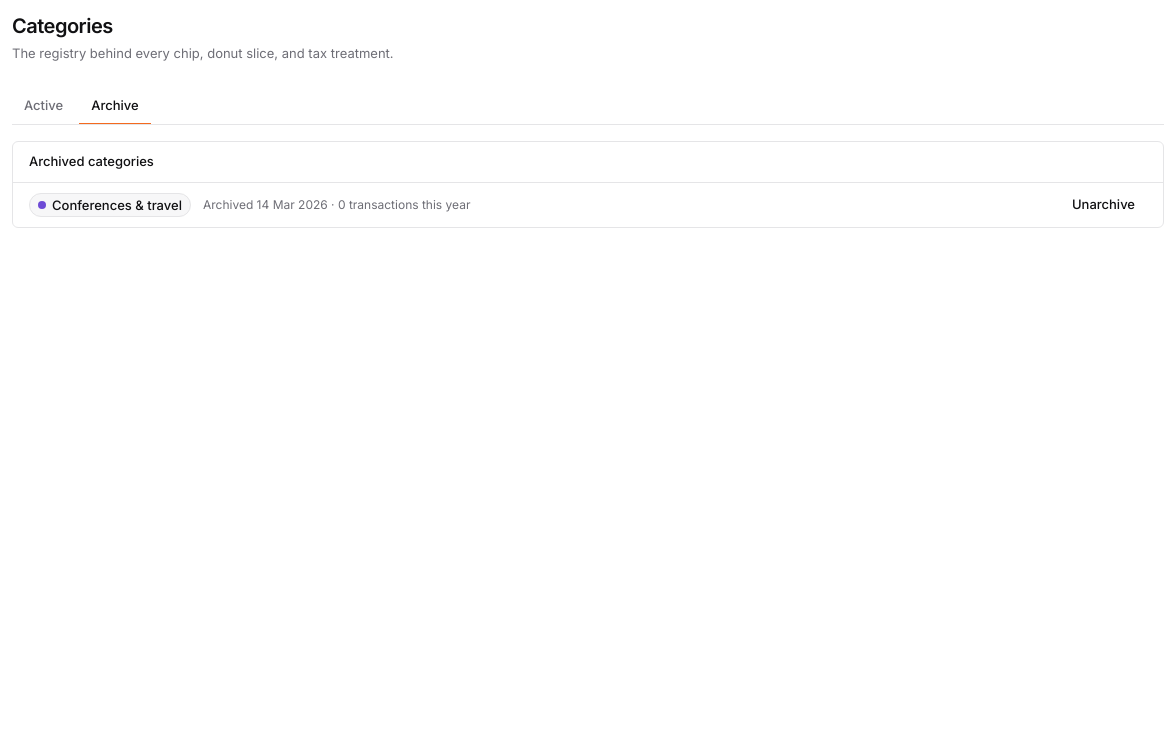
Test: CategoriesArchiveView (B8b) › renders archived rows with absolute-date meta and a quiet Unarchive
Expected: the text "Conferences & travel" is shown, [52,196,182,212]
Expected: the text "Archived 14 Mar 2026 · 0 transactions this year" is shown, [203,196,470,212]
Step 1. Click the button "Unarchive" → (1103, 204), box [1060,190,1147,218]
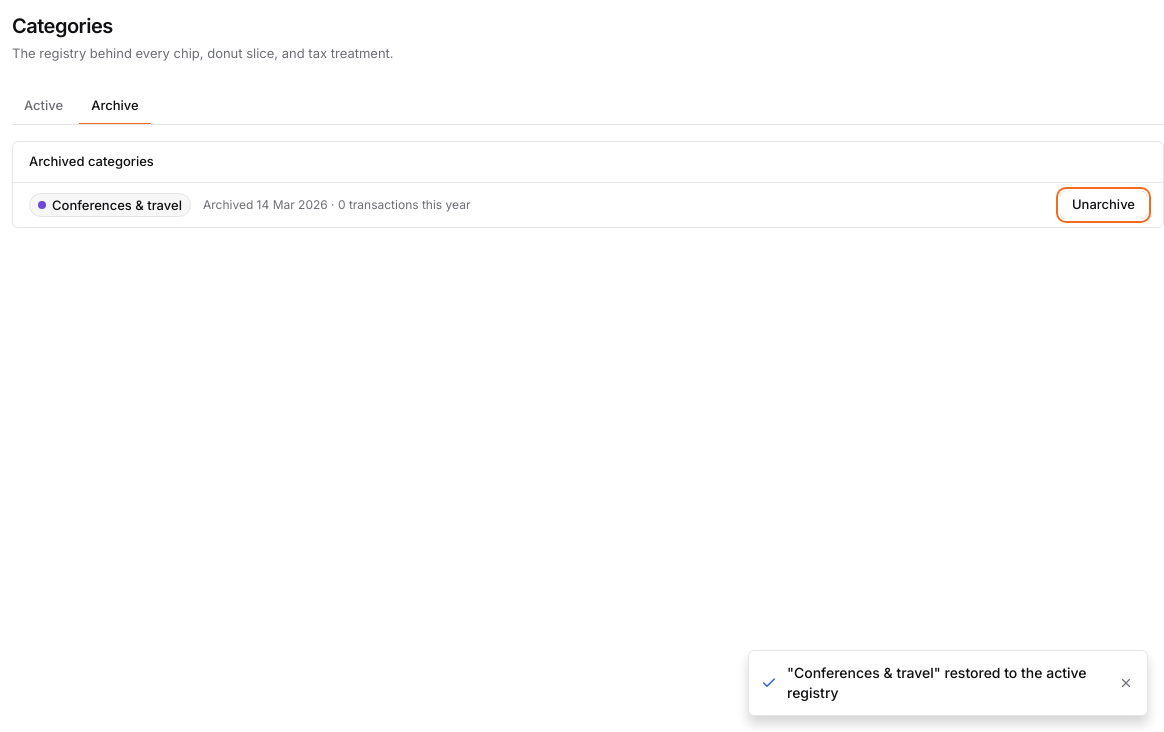
Expected: the text "\"Conferences & travel\" restored to the active registry" is shown, [787,663,1107,703]
